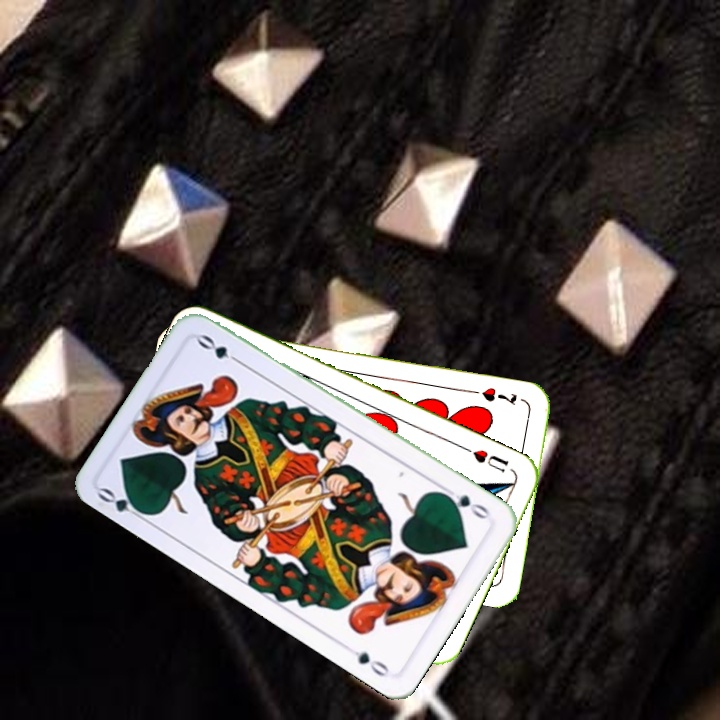GO: (94, 483, 151, 524), (439, 484, 493, 524)
H7: (478, 383, 520, 408)
HU: (469, 445, 512, 475)
